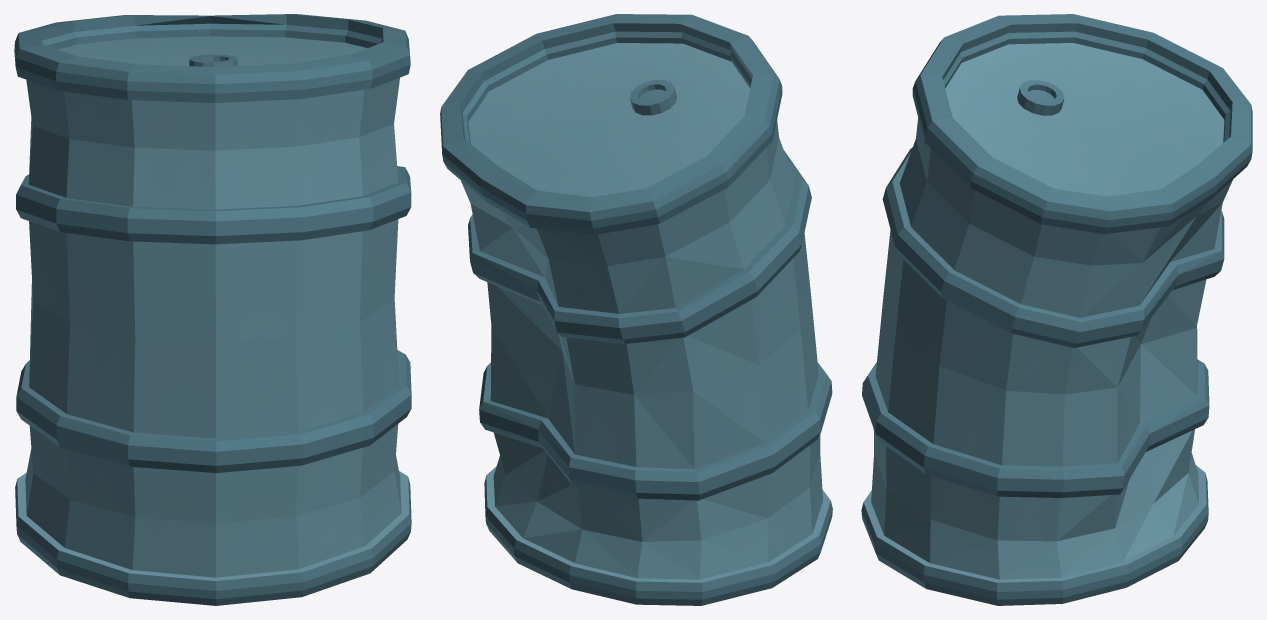
File: barrel_damaged_blue.obj
The picture shows the model from 3 angles, left to right: view 1: azimuth 30°, elevation 25°; view 2: azimuth 150°, elevation 25°; view 3: azimuth 270°, elevation 25°; orthographic projection. The views are drawn at different scales.
Parts seen in each view (by area): view 1: barrel_damaged_blue_Mesh; view 2: barrel_damaged_blue_Mesh; view 3: barrel_damaged_blue_Mesh.
Boxes of the visible parts, x1,y1,x2,y2 form: barrel_damaged_blue_Mesh: (14, 14, 411, 605); barrel_damaged_blue_Mesh: (440, 14, 832, 605); barrel_damaged_blue_Mesh: (861, 14, 1252, 605).
Size of the model in its own units: 0.7279 by 0.962 by 0.7231.
